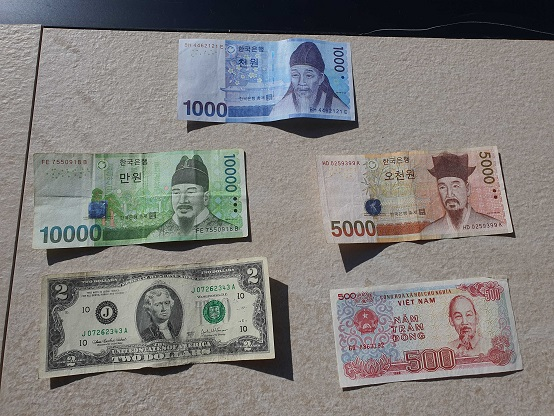10000won: (31, 149, 253, 247)
1000won: (177, 38, 357, 125)
2dollar: (39, 256, 275, 379)
5000won: (314, 147, 515, 244)
500vnd: (333, 275, 524, 388)
